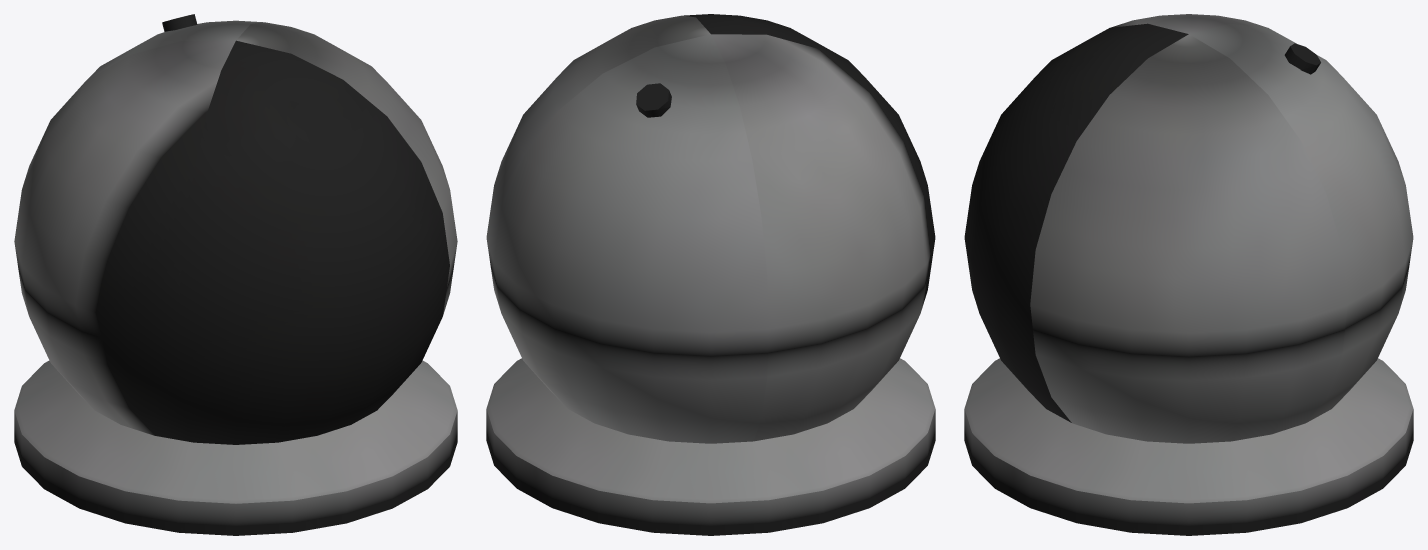
The model's file is ye85_science_container_s00_1.obj.
3 views of the same model, side by side, from view 1: azimuth 30°, elevation 25°; view 2: azimuth 150°, elevation 25°; view 3: azimuth 270°, elevation 25° (orthographic).
Visible parts, largest first — view 1: 1, base1; view 2: 1, base1; view 3: 1, base1.
Part boxes in pixels (x1,y1,x2,y2): 1: [14, 14, 457, 444]; base1: [14, 360, 457, 535]; 1: [486, 14, 935, 443]; base1: [486, 358, 935, 535]; 1: [964, 14, 1413, 443]; base1: [964, 358, 1413, 535].
Size of the model in its own units: 0.3125 by 0.3375 by 0.3125.
